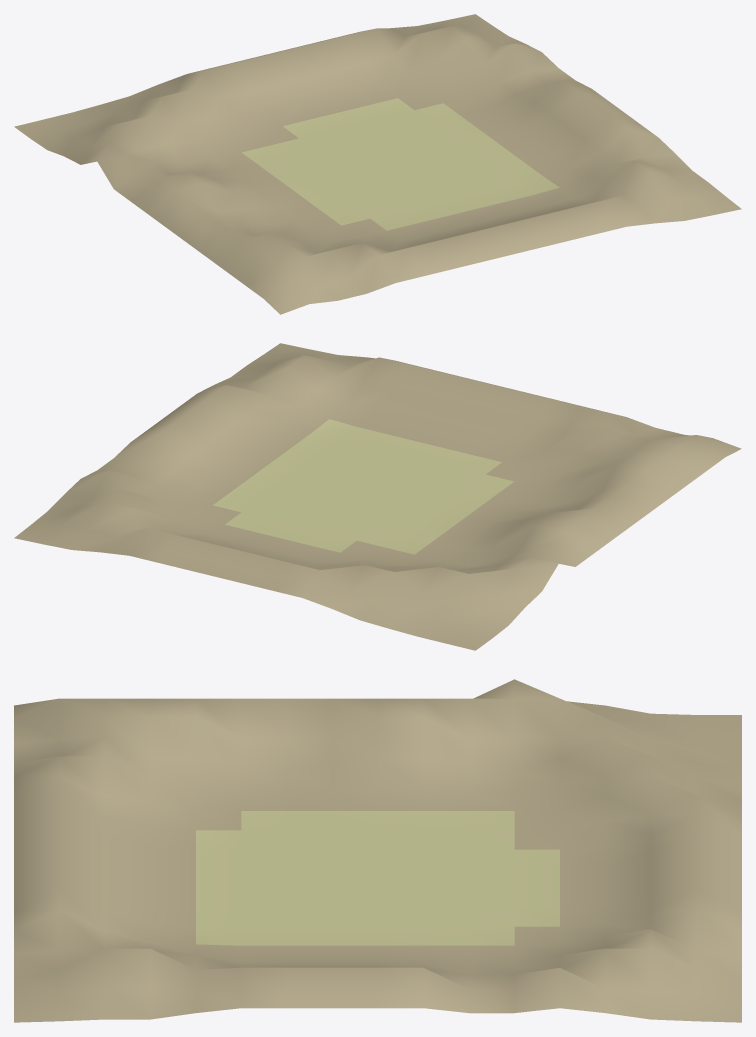
Rendered from Western Shooter Background.fbx.
3 views of the same model, one above another, from view 1: azimuth 30°, elevation 25°; view 2: azimuth 150°, elevation 25°; view 3: azimuth 270°, elevation 25° (orthographic). The views are drawn at different scales.
Parts seen in each view (by area): view 1: Plane; view 2: Plane; view 3: Plane.
Part boxes in pixels (bbox=[...]): Plane: bbox=[14, 14, 741, 314]; Plane: bbox=[14, 343, 741, 650]; Plane: bbox=[14, 679, 741, 1022].
Size of the model in its own units: 1724 by 93.14 by 1724.
